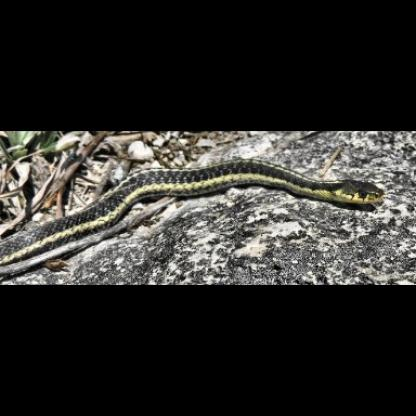Snake: (4, 155, 386, 259)
